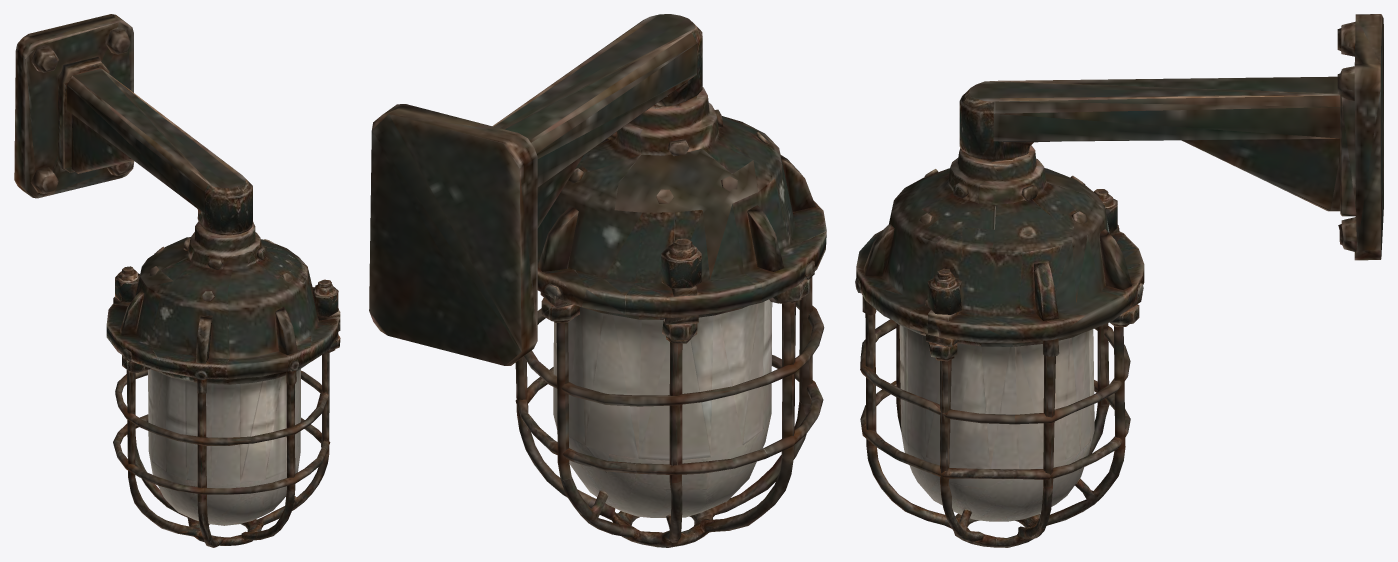
The model's file is reactor-flood-lamp.glb.
The picture shows the model from 3 angles, left to right: view 1: azimuth 30°, elevation 25°; view 2: azimuth 150°, elevation 25°; view 3: azimuth 270°, elevation 25°; orthographic projection. The views are drawn at different scales.
Parts seen in each view (by area): view 1: reactor-flood-lamp; view 2: reactor-flood-lamp; view 3: reactor-flood-lamp.
Boxes of the visible parts, x1,y1,x2,y2 form: reactor-flood-lamp: [14, 14, 340, 547]; reactor-flood-lamp: [369, 14, 826, 547]; reactor-flood-lamp: [855, 14, 1383, 547].
Size of the model in its own units: 0.2398 by 0.45 by 0.4373.
1 material, 1 textured.
